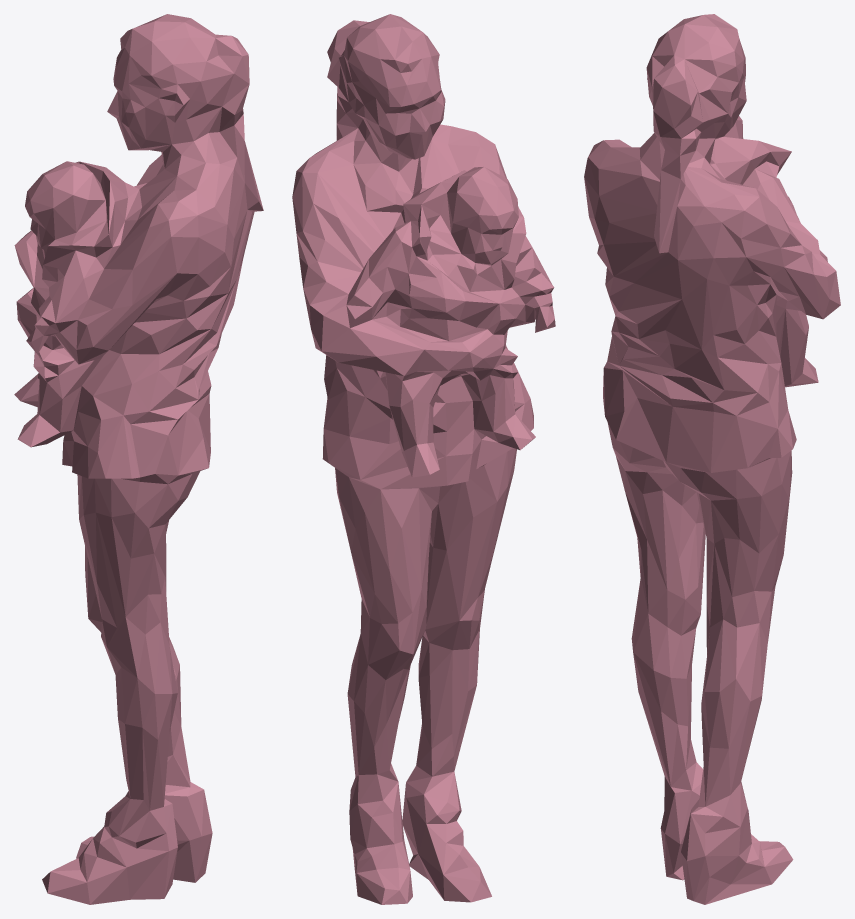
File: refugee.fbx
3 renders of one model, left to right at view 1: azimuth 30°, elevation 25°; view 2: azimuth 150°, elevation 25°; view 3: azimuth 270°, elevation 25°, orthographic.
Visible parts, largest first — view 1: lowpolyPeopleCasualWoman_1; view 2: lowpolyPeopleCasualWoman_1; view 3: lowpolyPeopleCasualWoman_1.
Boxes of the visible parts, <box> form: lowpolyPeopleCasualWoman_1: <box>14,14,263,904</box>; lowpolyPeopleCasualWoman_1: <box>292,14,555,904</box>; lowpolyPeopleCasualWoman_1: <box>584,14,840,904</box>.
Bounding box in the file's own units: 44.51 × 158 × 42.35.
